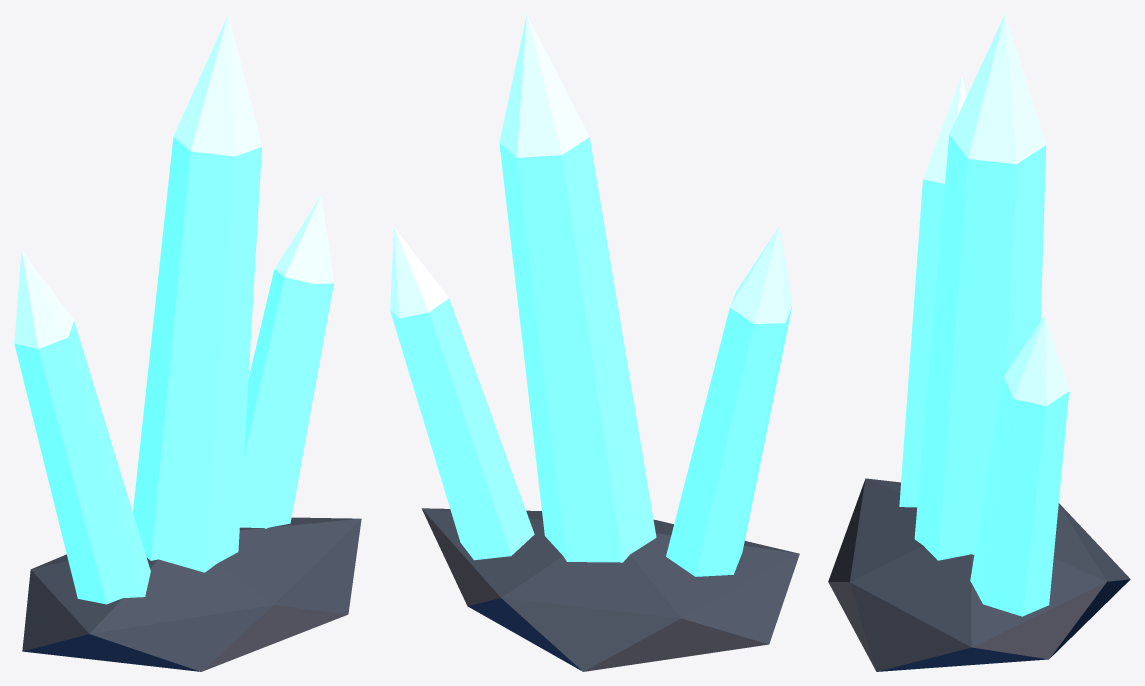
The model's file is Crystal_Spire_Tall.glb.
3 views of the same model, side by side, from view 1: azimuth 30°, elevation 25°; view 2: azimuth 150°, elevation 25°; view 3: azimuth 270°, elevation 25° (orthographic). The views are drawn at different scales.
Visible parts, largest first — view 1: Crystal_Spire_Tall; view 2: Crystal_Spire_Tall; view 3: Crystal_Spire_Tall.
Part boxes in pixels (x1,y1,x2,y2): Crystal_Spire_Tall: [14, 14, 361, 671]; Crystal_Spire_Tall: [390, 14, 799, 671]; Crystal_Spire_Tall: [828, 14, 1130, 671].
Size of the model in its own units: 3.98 by 6.2 by 2.72.
1 material, 1 textured.
